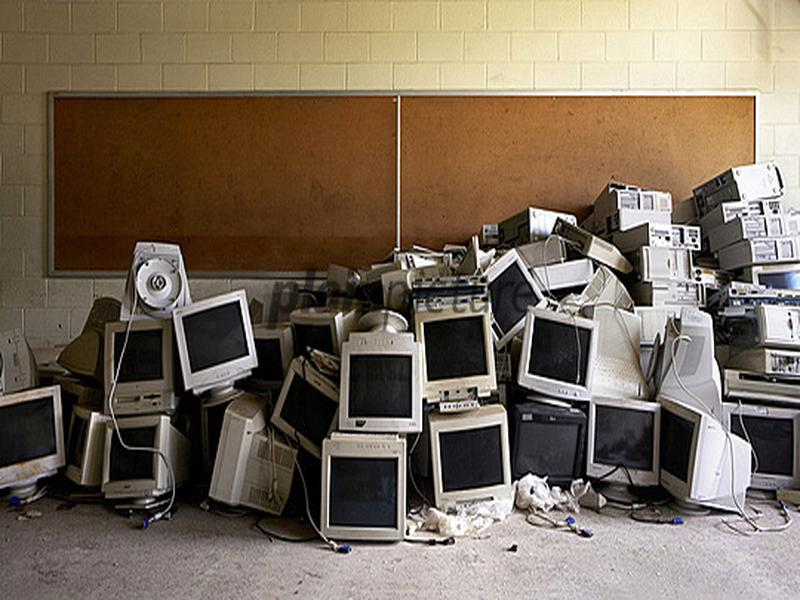tv_pc: (309, 434, 427, 556), (659, 390, 761, 515), (167, 288, 263, 409), (422, 402, 521, 517), (329, 329, 430, 440), (101, 411, 196, 517), (412, 301, 501, 404), (506, 395, 590, 498), (511, 304, 603, 397), (101, 317, 185, 415), (584, 392, 667, 491)
